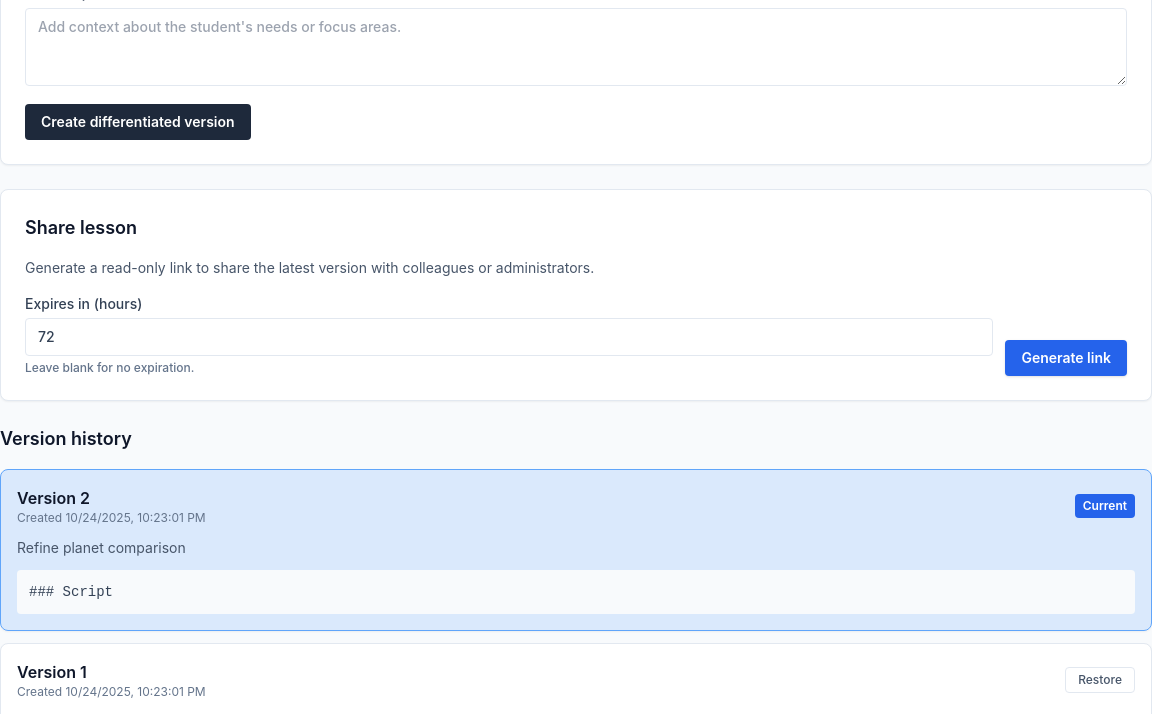
Test: LessonDetailPage › generates and displays a share link
(page scrolled)
Click the button "Generate link" at (1066, 358), box x1=1005 y1=340 x2=1127 y2=376
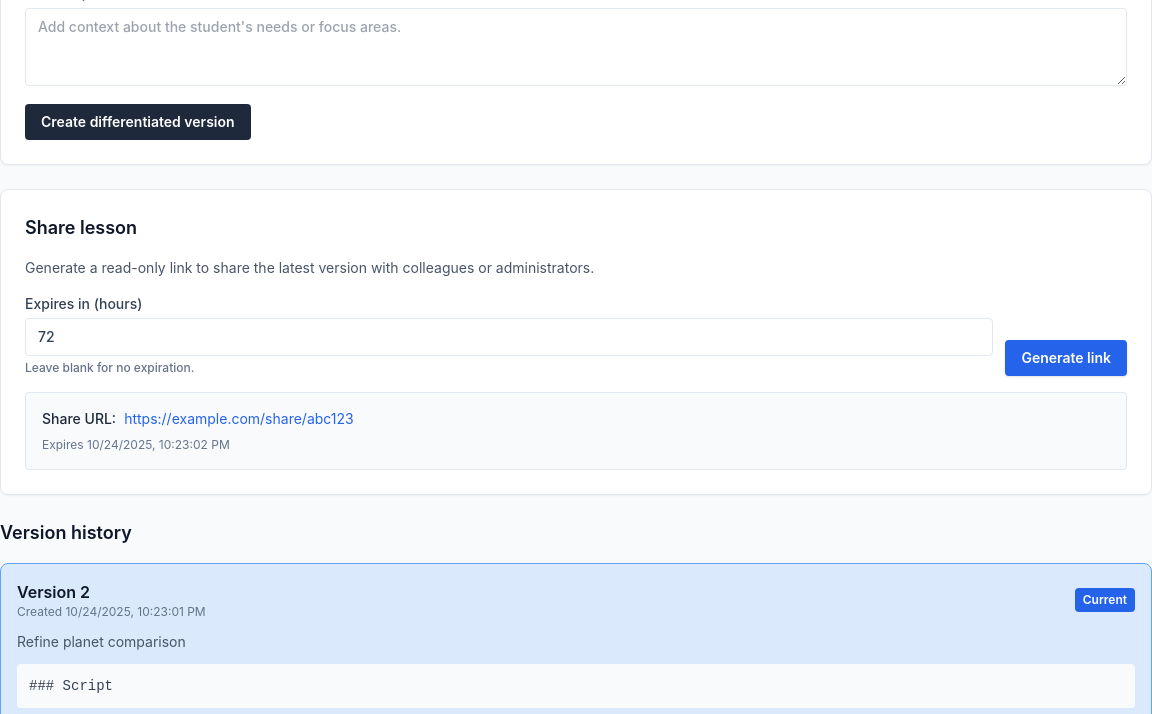
expect the link "https://example.com/share/abc123" is shown: met, box x1=124 y1=410 x2=354 y2=427
